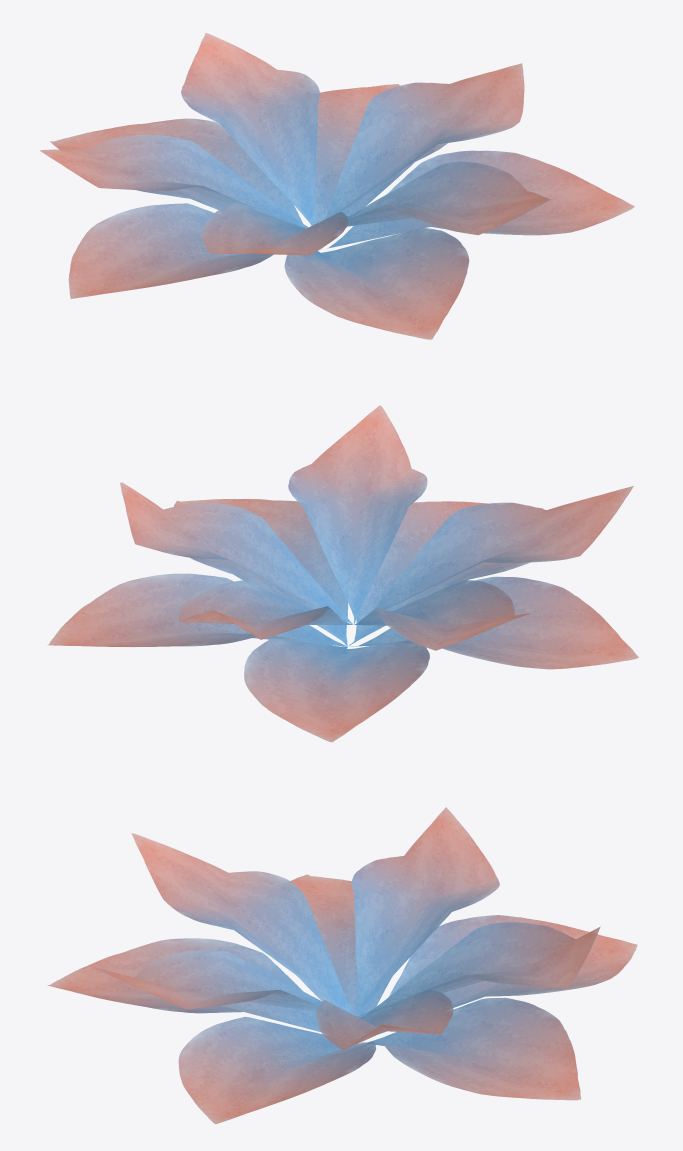
Rendered from flower.glb.
The picture shows the model from 3 angles, top to bottom: view 1: azimuth 30°, elevation 25°; view 2: azimuth 150°, elevation 25°; view 3: azimuth 270°, elevation 25°; orthographic projection. The views are drawn at different scales.
Parts seen in each view (by area): view 1: pPlane1; view 2: pPlane1; view 3: pPlane1.
Part boxes in pixels (x1,y1,x2,y2): pPlane1: [40, 33, 634, 339]; pPlane1: [47, 405, 638, 742]; pPlane1: [47, 807, 637, 1124].
Bounding box in the file's own units: 2.69 × 0.6079 × 2.7.
1 material, 1 textured.
